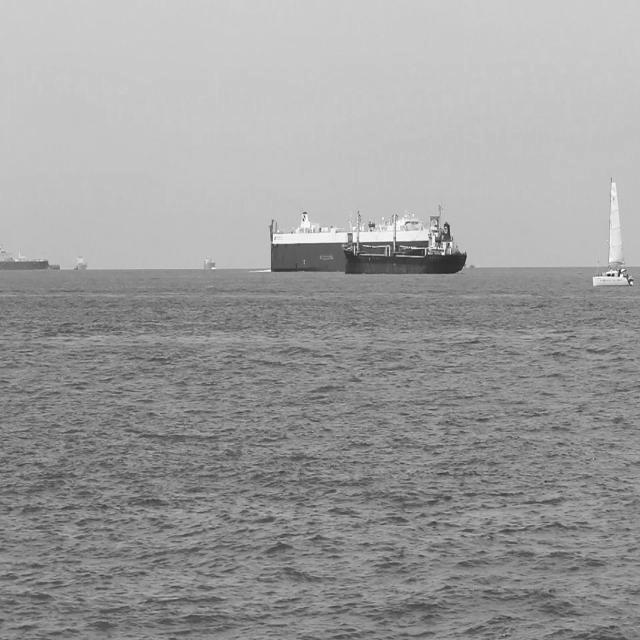ship: (266, 208, 441, 278), (336, 197, 470, 278), (592, 168, 636, 288), (0, 246, 52, 274), (71, 250, 90, 274), (202, 252, 217, 273)
